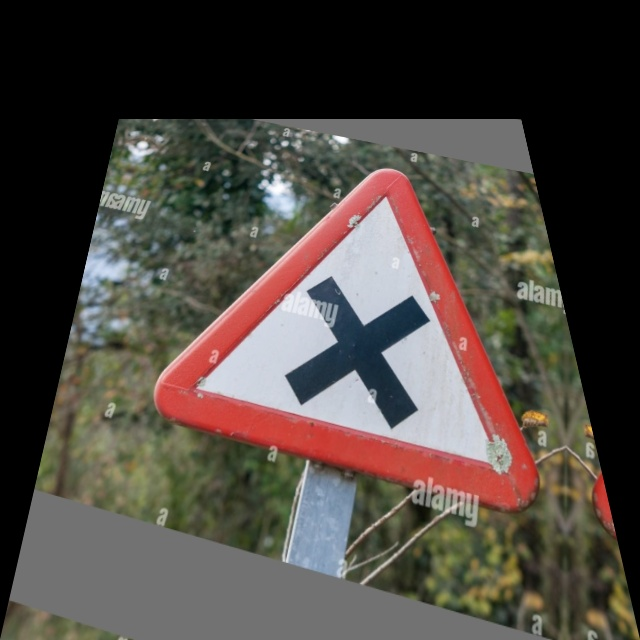Cross_Road: (136, 140, 611, 517)
